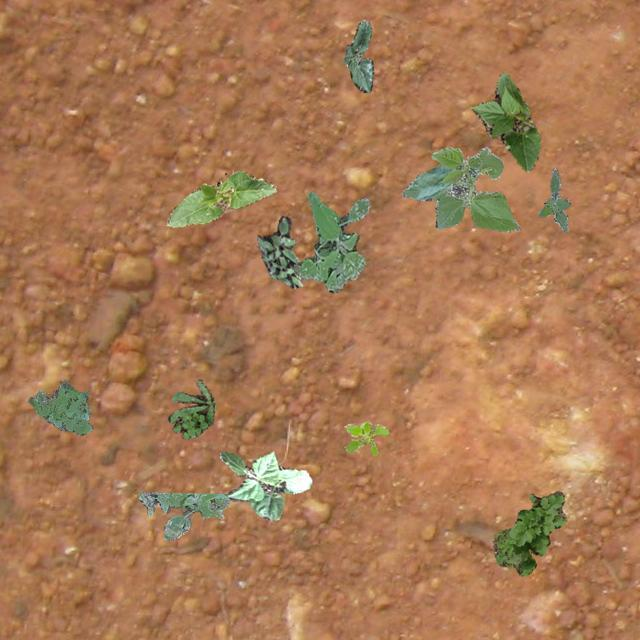crop: (401, 146, 518, 232), (470, 72, 540, 170), (166, 168, 276, 226), (218, 451, 310, 518), (342, 18, 372, 92)
weed: (292, 190, 369, 292), (492, 490, 564, 576), (137, 492, 230, 540), (28, 379, 92, 434), (256, 215, 302, 288), (167, 378, 214, 438), (536, 166, 568, 232), (343, 420, 387, 454)
